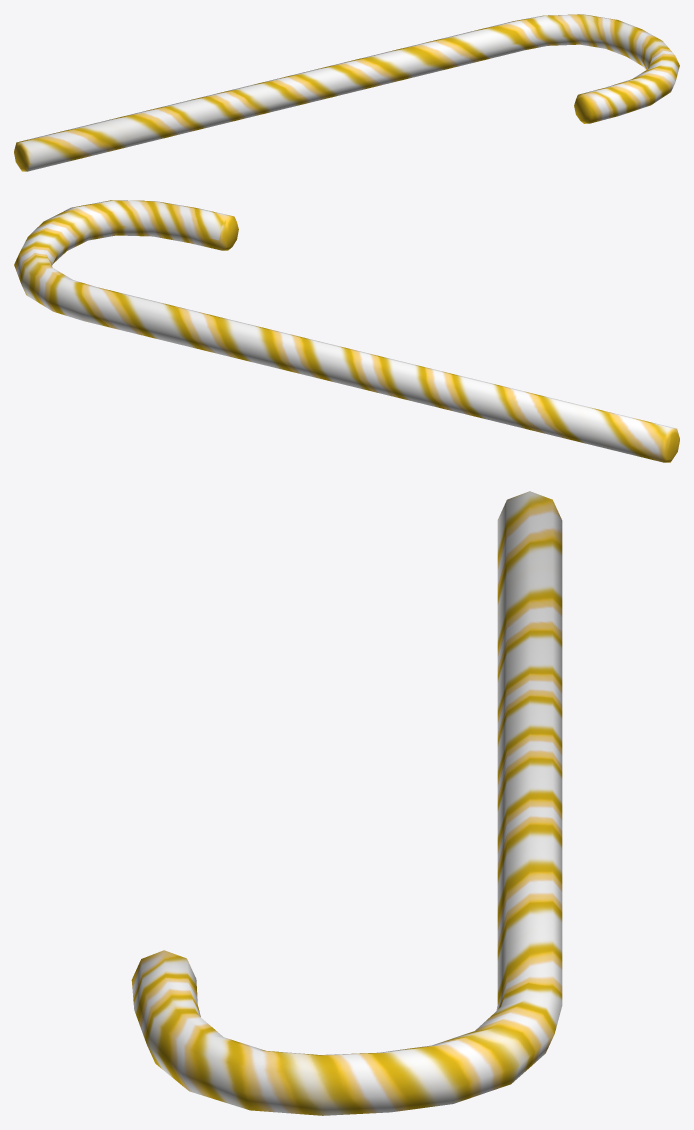
Rendered from CHP_MOD_Candy_cane_yellow.fbx.
The picture shows the model from 3 angles, top to bottom: view 1: azimuth 30°, elevation 25°; view 2: azimuth 150°, elevation 25°; view 3: azimuth 270°, elevation 25°; orthographic projection. The views are drawn at different scales.
Parts seen in each view (by area): view 1: CHP_MOD_Candy_cane_yellow; view 2: CHP_MOD_Candy_cane_yellow; view 3: CHP_MOD_Candy_cane_yellow.
Part boxes in pixels (x1,y1,x2,y2): CHP_MOD_Candy_cane_yellow: (14,14,679,171); CHP_MOD_Candy_cane_yellow: (14,200,679,462); CHP_MOD_Candy_cane_yellow: (131,491,562,1115).
Bounding box in the file's own units: 1.18 × 0.0557 × 0.3706.
